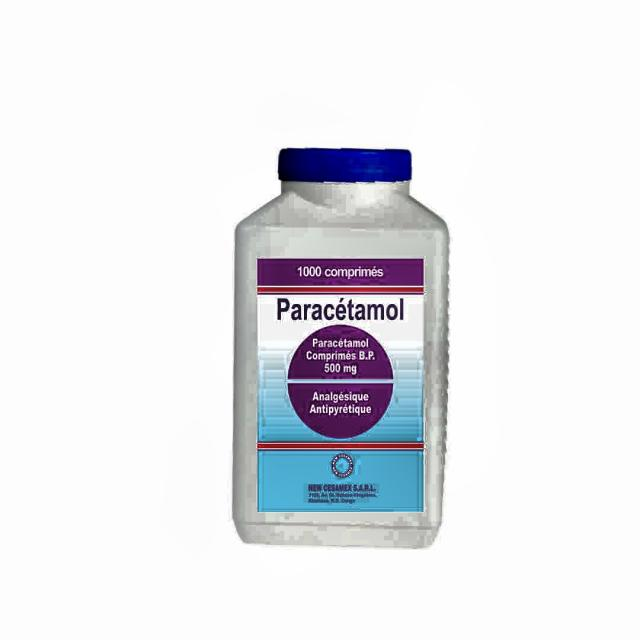Paracetamol: (258, 272, 430, 334)
